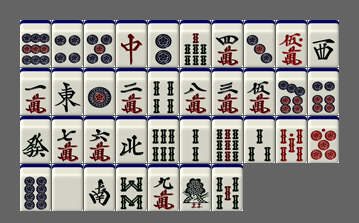0m: (276, 20, 307, 67)
0p: (308, 116, 339, 163)
0s: (276, 116, 307, 163)
1m: (20, 68, 51, 115)
1p: (84, 68, 115, 115)
1s: (180, 164, 211, 211)
1z: (52, 68, 83, 115)
2m: (116, 68, 147, 115)
2p: (148, 20, 179, 67)
2s: (180, 116, 211, 163)
2z: (84, 164, 115, 211)
3m: (212, 68, 243, 115)
3p: (244, 20, 275, 67)
3s: (244, 116, 275, 163)
3z: (308, 20, 339, 67)
4m: (212, 20, 243, 67)
4p: (52, 20, 83, 67)
4s: (148, 68, 179, 115)
4z: (116, 116, 147, 163)
5m: (244, 68, 275, 115)
5p: (84, 20, 115, 67)
5s: (212, 164, 243, 211)
5z: (52, 164, 83, 211)
6m: (84, 116, 115, 163)
6p: (308, 68, 339, 115)
6s: (148, 116, 179, 163)
6z: (20, 116, 51, 163)
7m: (52, 116, 83, 163)
7p: (276, 68, 307, 115)
7s: (180, 20, 211, 67)
7z: (116, 20, 147, 67)
8m: (180, 68, 211, 115)
8p: (20, 164, 51, 211)
8s: (116, 164, 147, 211)
9m: (148, 164, 179, 211)
9p: (20, 20, 51, 67)
9s: (212, 116, 243, 163)
